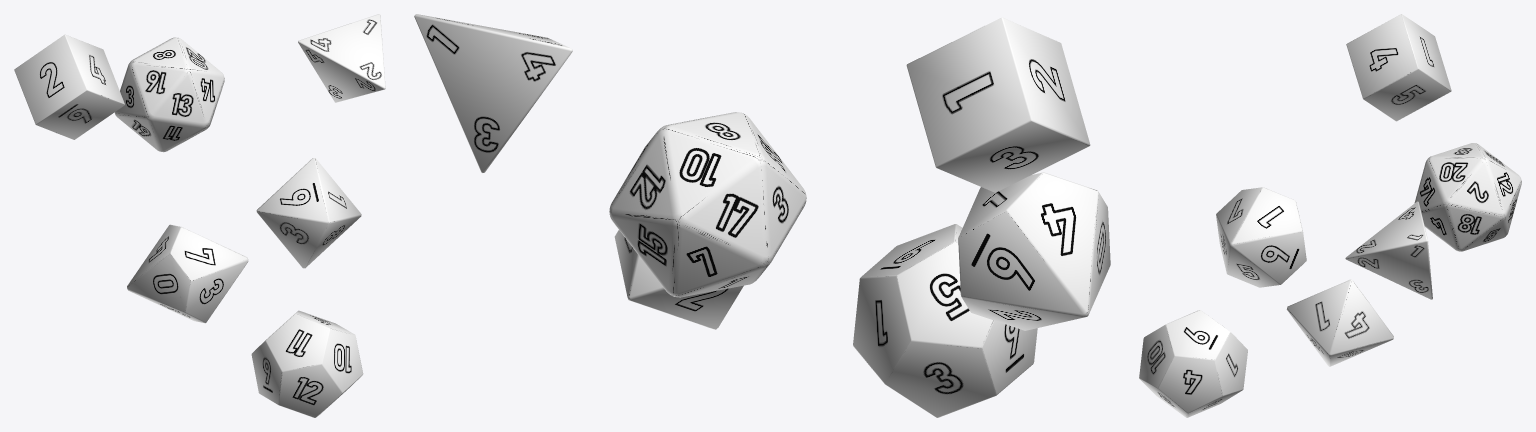
File: Dices.glb
3 views of the same model, side by side, from view 1: azimuth 30°, elevation 25°; view 2: azimuth 150°, elevation 25°; view 3: azimuth 270°, elevation 25° (orthographic). The views are drawn at different scales.
Parts seen in each view (by area): view 1: D20, D12, D6, D10, D8, D4; view 2: D20, D6, D12, D10, D4, D8; view 3: D20, D12, D6, D10, D8, D4.
Part boxes in pixels (x1=…): D20: x1=114, y1=37, x2=224, y2=152; D12: x1=251, y1=310, x2=363, y2=417; D6: x1=14, y1=34, x2=124, y2=139; D10: x1=127, y1=224, x2=248, y2=323; D8: x1=256, y1=158, x2=361, y2=268; D4: x1=298, y1=14, x2=385, y2=102; D20: x1=609, y1=112, x2=806, y2=297; D6: x1=906, y1=17, x2=1090, y2=192; D12: x1=853, y1=224, x2=1037, y2=417; D10: x1=958, y1=172, x2=1110, y2=330; D4: x1=414, y1=14, x2=572, y2=172; D8: x1=614, y1=230, x2=743, y2=329; D20: x1=1414, y1=143, x2=1521, y2=251; D12: x1=1139, y1=310, x2=1247, y2=417; D6: x1=1346, y1=14, x2=1451, y2=121; D10: x1=1216, y1=187, x2=1306, y2=287; D8: x1=1286, y1=279, x2=1393, y2=366; D4: x1=1345, y1=201, x2=1432, y2=299.
Bounding box in the file's own units: 6.86 × 6 × 6.24.
6 materials, 6 textured.
